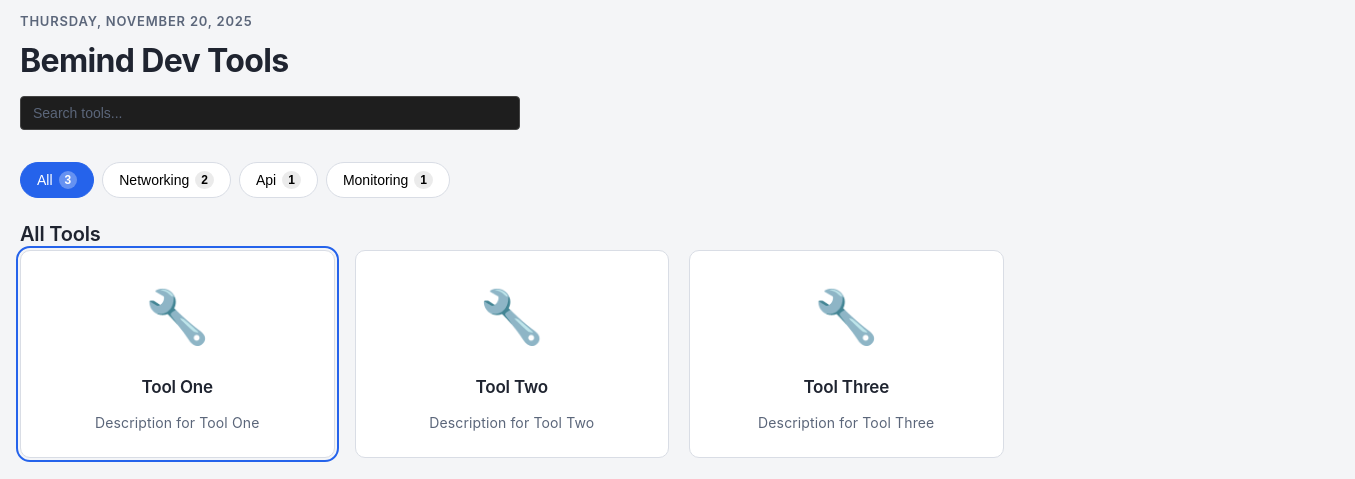
Scenario: HomePage Component › Search Integration › should display empty state when no tools match search
The width and height of the screenshot is (1355, 479).
Type "NonExistentTool" into the field with placeholder "Search tools..." at (270, 113), box [20,96,520,130]
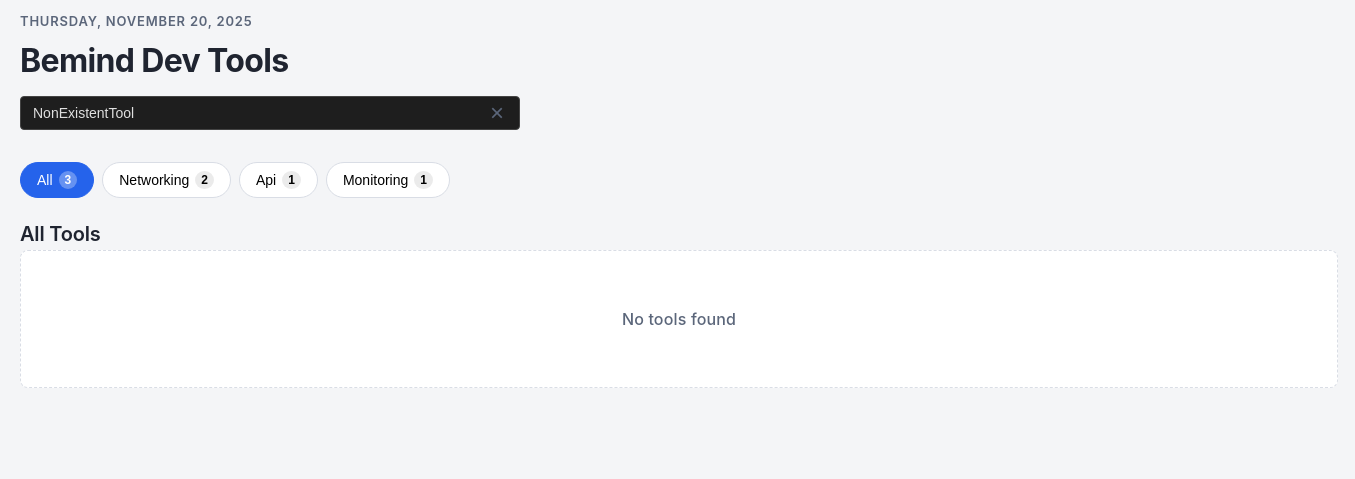
Expected: the text "No tools found" is shown, [622,309,736,329]
